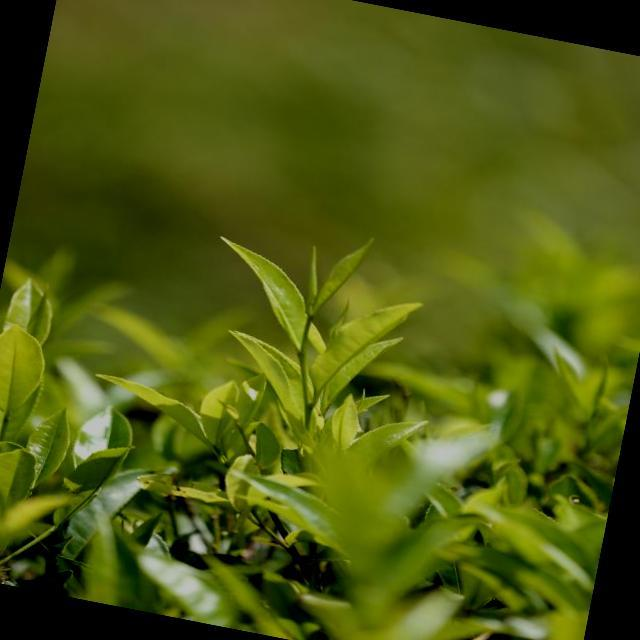Stem: (305, 315, 314, 328)
